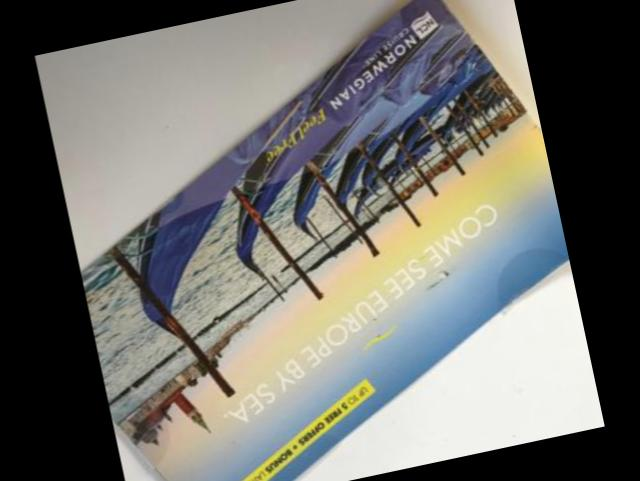cardboard paper: (81, 0, 570, 481)
